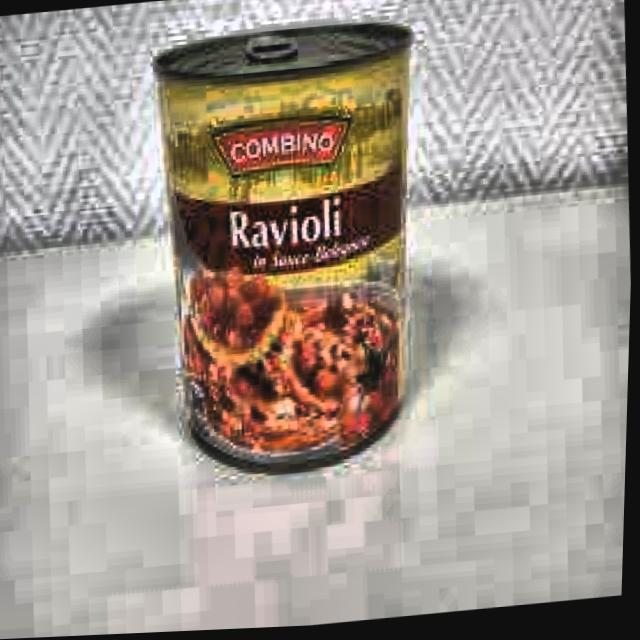Cans: (132, 0, 448, 496)
